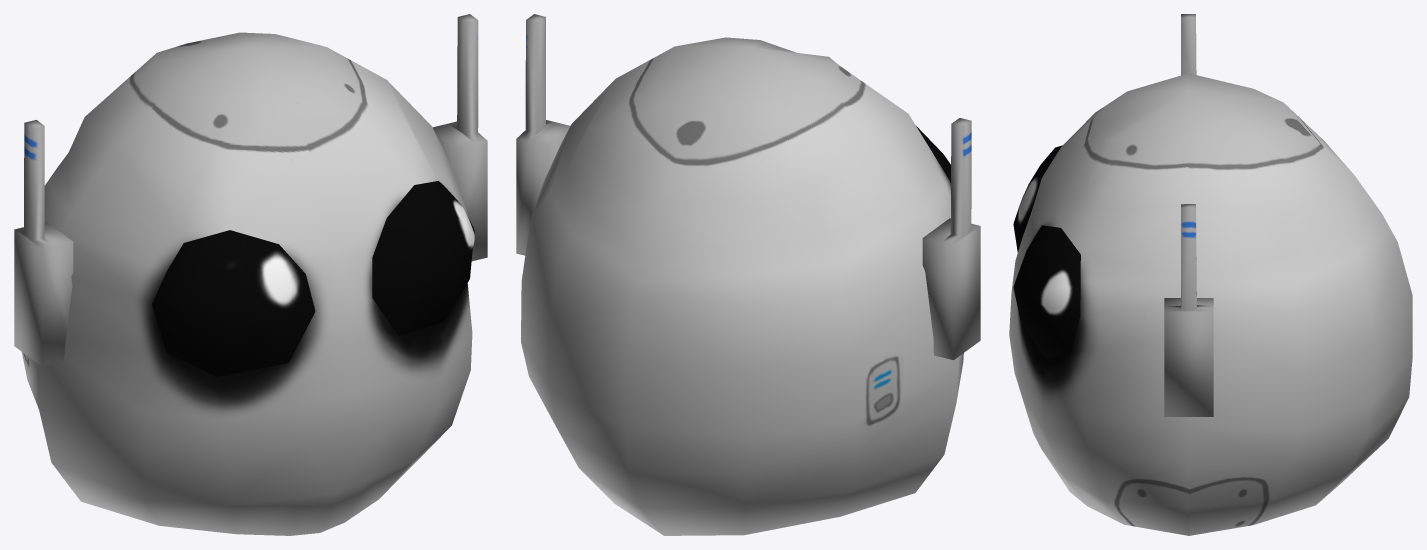
Rendered from Gio.FBX.
3 renders of one model, left to right at view 1: azimuth 30°, elevation 25°; view 2: azimuth 150°, elevation 25°; view 3: azimuth 270°, elevation 25°, orthographic. The views are drawn at different scales.
Parts seen in each view (by area): view 1: Sphere001; view 2: Sphere001; view 3: Sphere001.
Part boxes in pixels (x1,y1,x2,y2): Sphere001: [14, 14, 487, 535]; Sphere001: [516, 14, 980, 535]; Sphere001: [1009, 14, 1412, 535].
Size of the model in its own units: 66.9 by 62.64 by 58.36.
